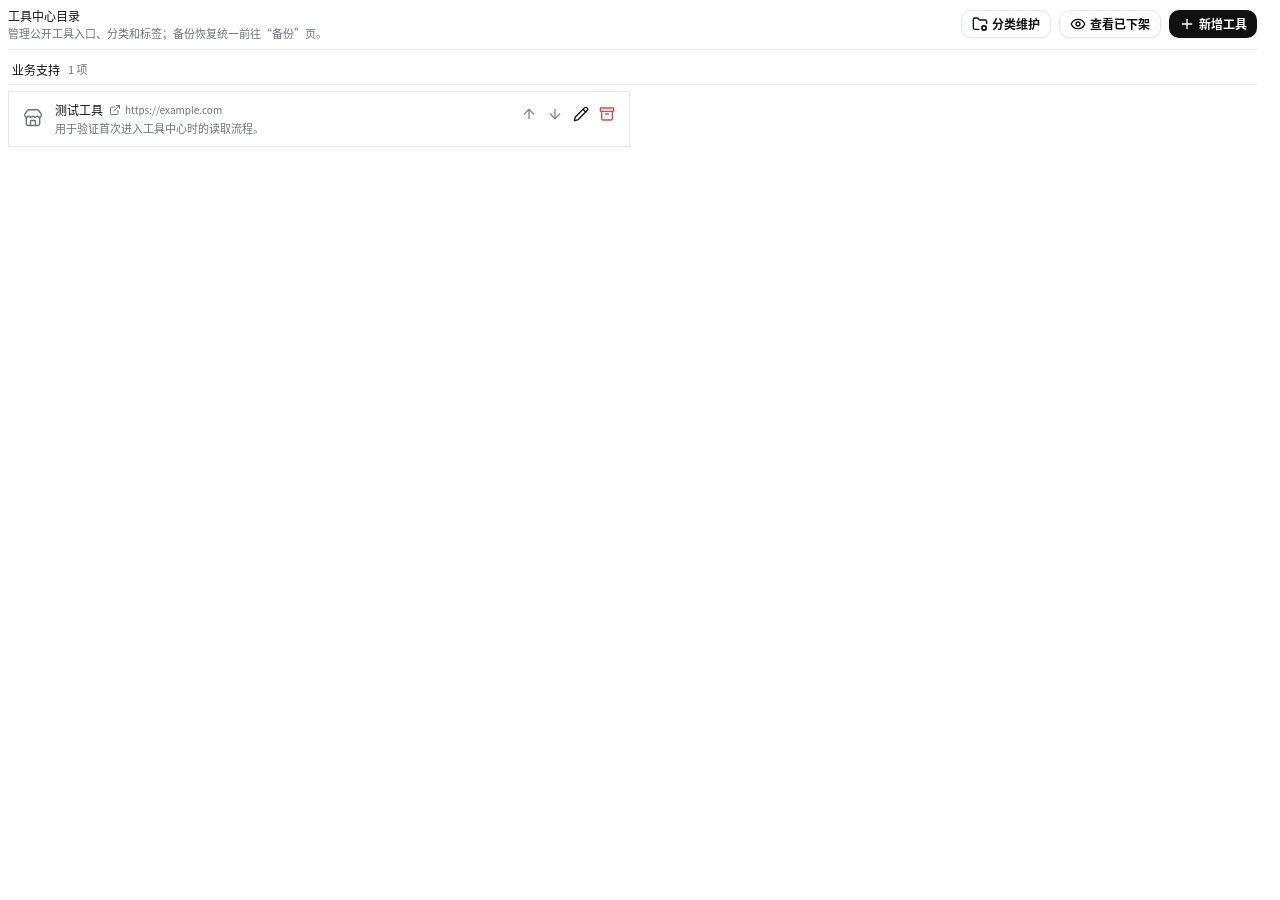
Scenario: 分类维护弹窗 › 非空分类的删除按钮禁用
Click the button "分类维护". click: (1006, 24)
box: [961,10,1051,38]
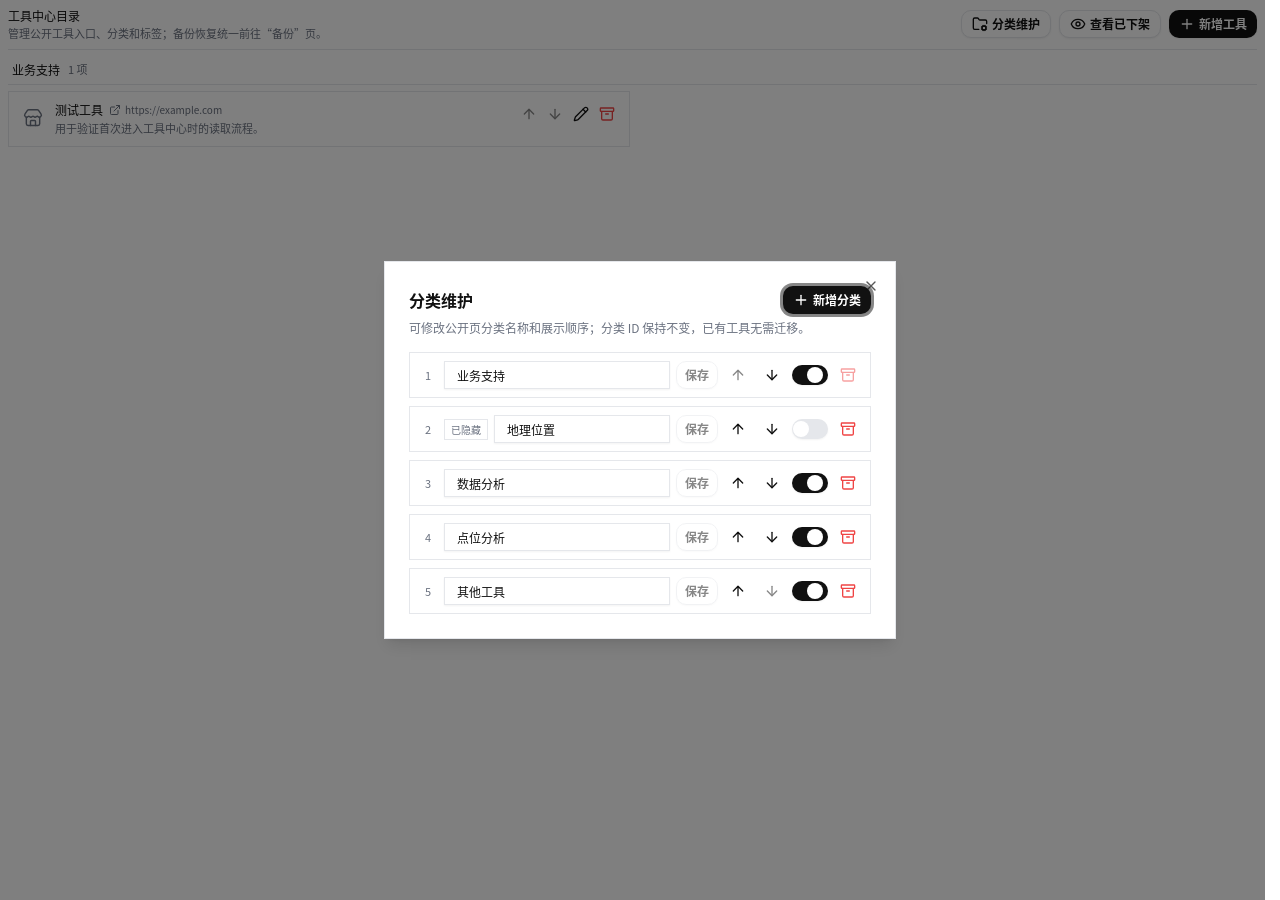
Result: the field named "业务支持分类名称" is shown at [444,361,670,389]
Result: the 1st button titled "删除分类" is disabled at [834,361,862,389]
